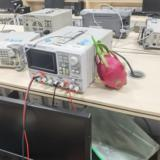pitaya: (93, 39, 129, 90)
